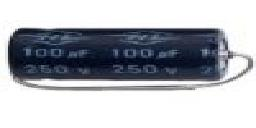Electrolytic Capacitor: (4, 21, 256, 100)
